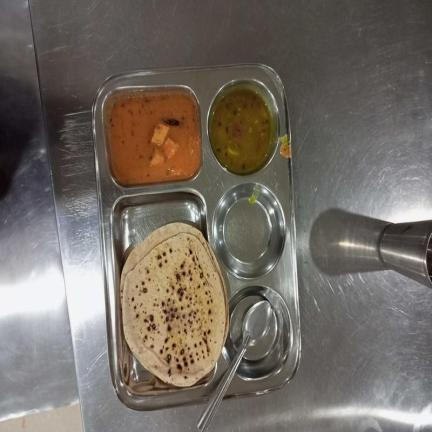Dal: (209, 89, 273, 174)
Paneer: (109, 92, 201, 187)
Plate: (92, 63, 302, 412)
Roti: (120, 223, 231, 386)
